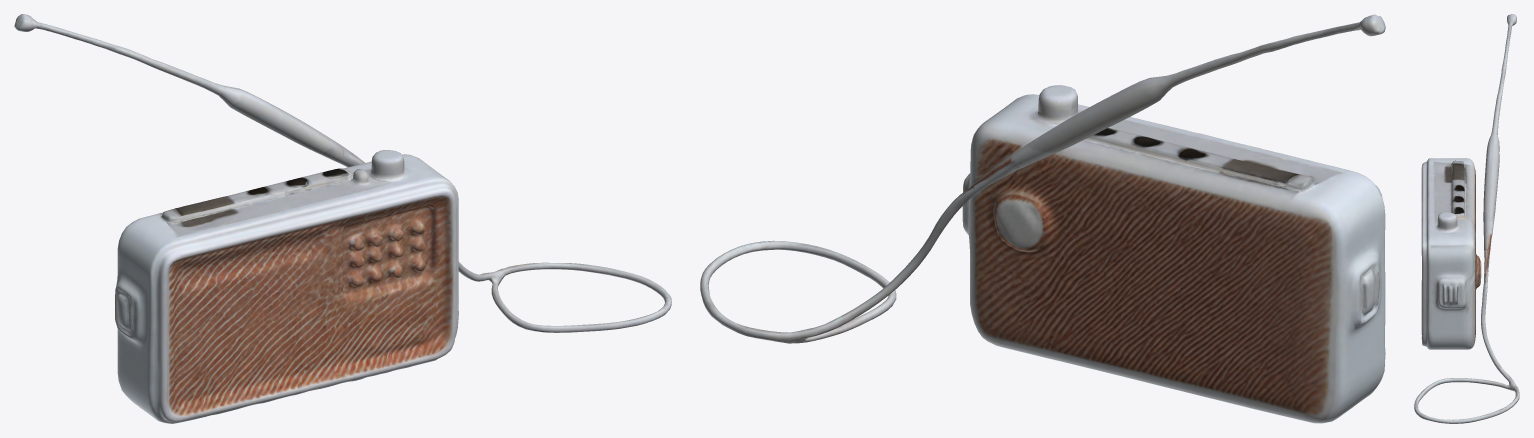
The model's file is Retro_Radio_Resonance_0105102901_texture.fbx.
3 renders of one model, left to right at view 1: azimuth 30°, elevation 25°; view 2: azimuth 150°, elevation 25°; view 3: azimuth 270°, elevation 25°, orthographic. The views are drawn at different scales.
Parts seen in each view (by area): view 1: Mesh1_Mesh1.004; view 2: Mesh1_Mesh1.004; view 3: Mesh1_Mesh1.004.
Boxes of the visible parts, x1,y1,x2,y2 form: Mesh1_Mesh1.004: (14,14,671,423); Mesh1_Mesh1.004: (700,14,1385,423); Mesh1_Mesh1.004: (1414,14,1519,423).
Size of the model in its own units: 200 by 123 by 50.21.
1 material, 1 textured.
